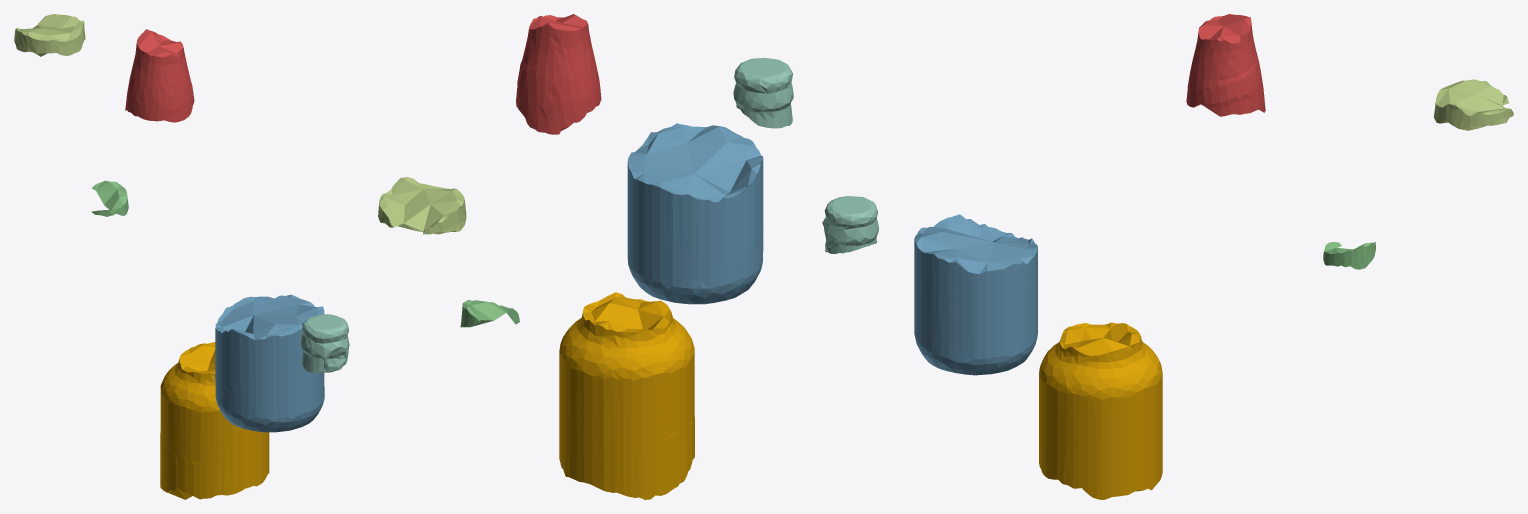
File: fractured_13_6pcs_transformed.glb
The picture shows the model from 3 angles, left to right: view 1: azimuth 30°, elevation 25°; view 2: azimuth 150°, elevation 25°; view 3: azimuth 270°, elevation 25°; orthographic projection. The views are drawn at different scales.
Visible parts, largest first — view 1: piece_2.obj, piece_0.obj, piece_1.obj, piece_4.obj, piece_5.obj, piece_3.obj; view 2: piece_0.obj, piece_2.obj, piece_1.obj, piece_5.obj, piece_4.obj, piece_3.obj; view 3: piece_0.obj, piece_2.obj, piece_1.obj, piece_5.obj, piece_4.obj, piece_3.obj.
Boxes of the visible parts, x1,y1,x2,y2 form: piece_2.obj: [215, 294, 324, 432]; piece_0.obj: [160, 342, 269, 499]; piece_1.obj: [125, 29, 194, 122]; piece_4.obj: [301, 314, 349, 373]; piece_5.obj: [14, 14, 85, 56]; piece_3.obj: [91, 180, 128, 216]; piece_0.obj: [559, 292, 694, 499]; piece_2.obj: [627, 123, 763, 304]; piece_1.obj: [516, 14, 601, 134]; piece_5.obj: [378, 177, 466, 234]; piece_4.obj: [733, 57, 793, 128]; piece_3.obj: [460, 300, 519, 327]; piece_0.obj: [1039, 322, 1162, 499]; piece_2.obj: [914, 214, 1037, 375]; piece_1.obj: [1186, 14, 1265, 116]; piece_5.obj: [1434, 79, 1513, 130]; piece_4.obj: [822, 196, 878, 253]; piece_3.obj: [1323, 242, 1375, 269].
Size of the model in its own units: 0.2984 by 1.25 by 1.66.
